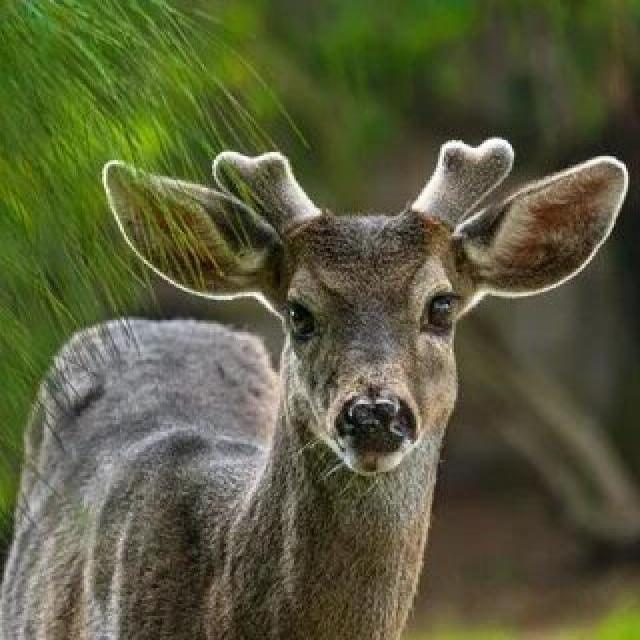deer: (28, 92, 530, 580)
